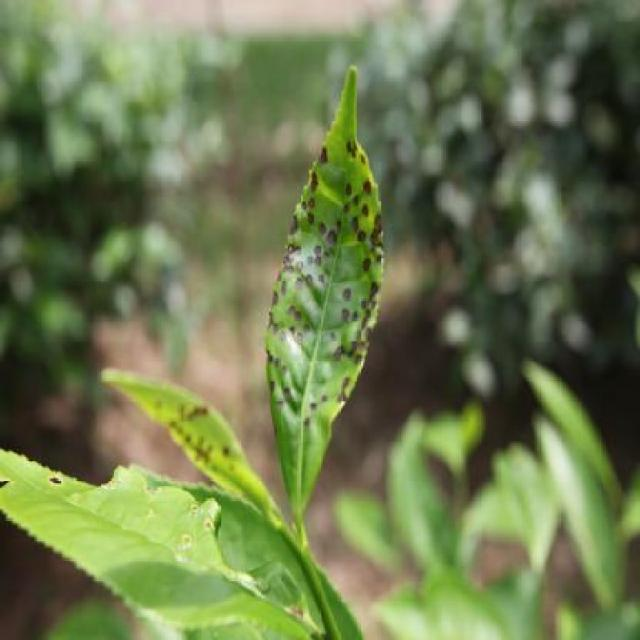Tea Mosquito bug infested leaf: (275, 122, 394, 489), (143, 343, 252, 442)
